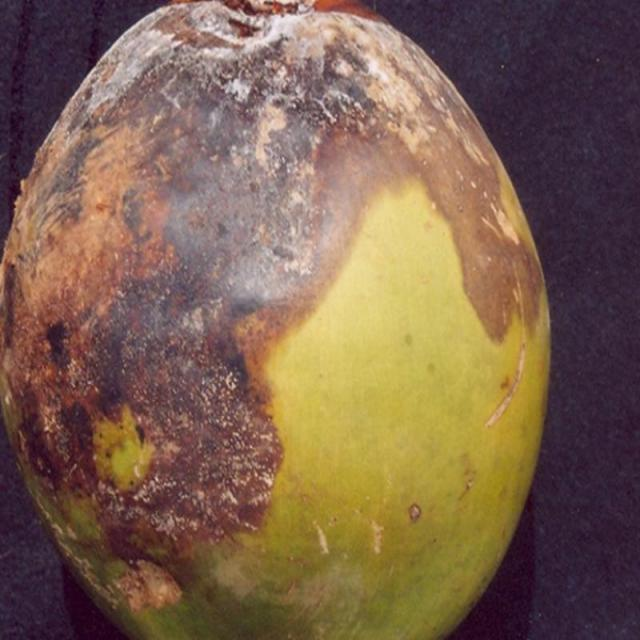damaged: (0, 0, 549, 639)
